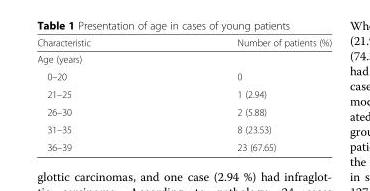table: (36, 36, 331, 152)
table column: (163, 36, 331, 152), (36, 36, 163, 152)
table column header: (36, 36, 331, 50)
table projected row header: (36, 50, 331, 67)
table row: (36, 67, 331, 85), (36, 102, 331, 120), (36, 120, 331, 138), (36, 50, 331, 67), (36, 85, 331, 102), (36, 36, 331, 50), (36, 138, 331, 152)
